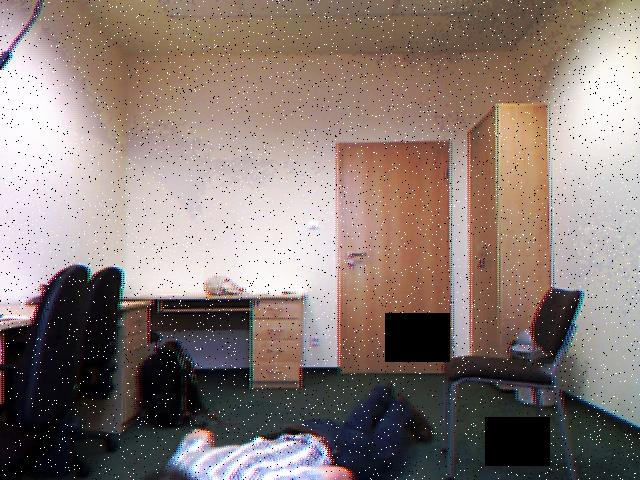fall: (133, 380, 437, 480)
